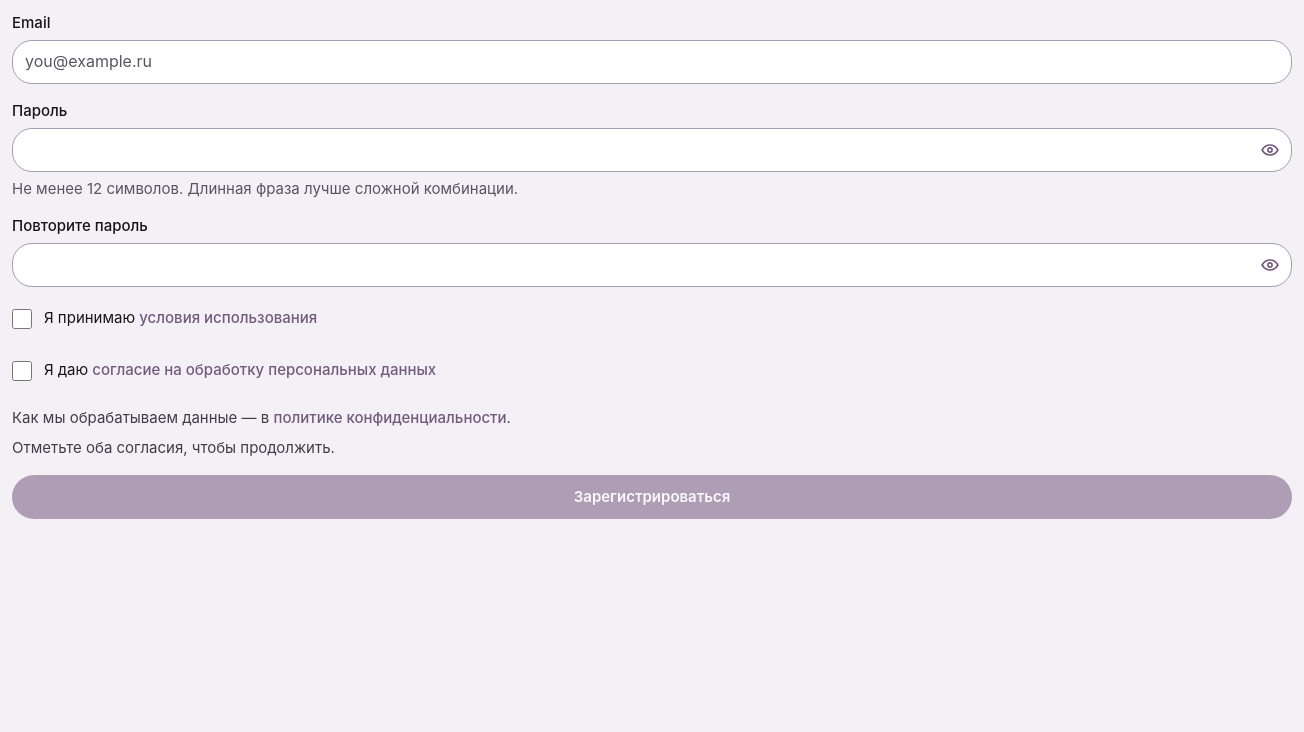
Test case: RegisterForm › words an empty form in Russian, never the schema’s English
The image size is (1304, 732).
Click the checkbox labelled "Я принимаю условия использования" at (22, 319), box x1=12 y1=309 x2=32 y2=329
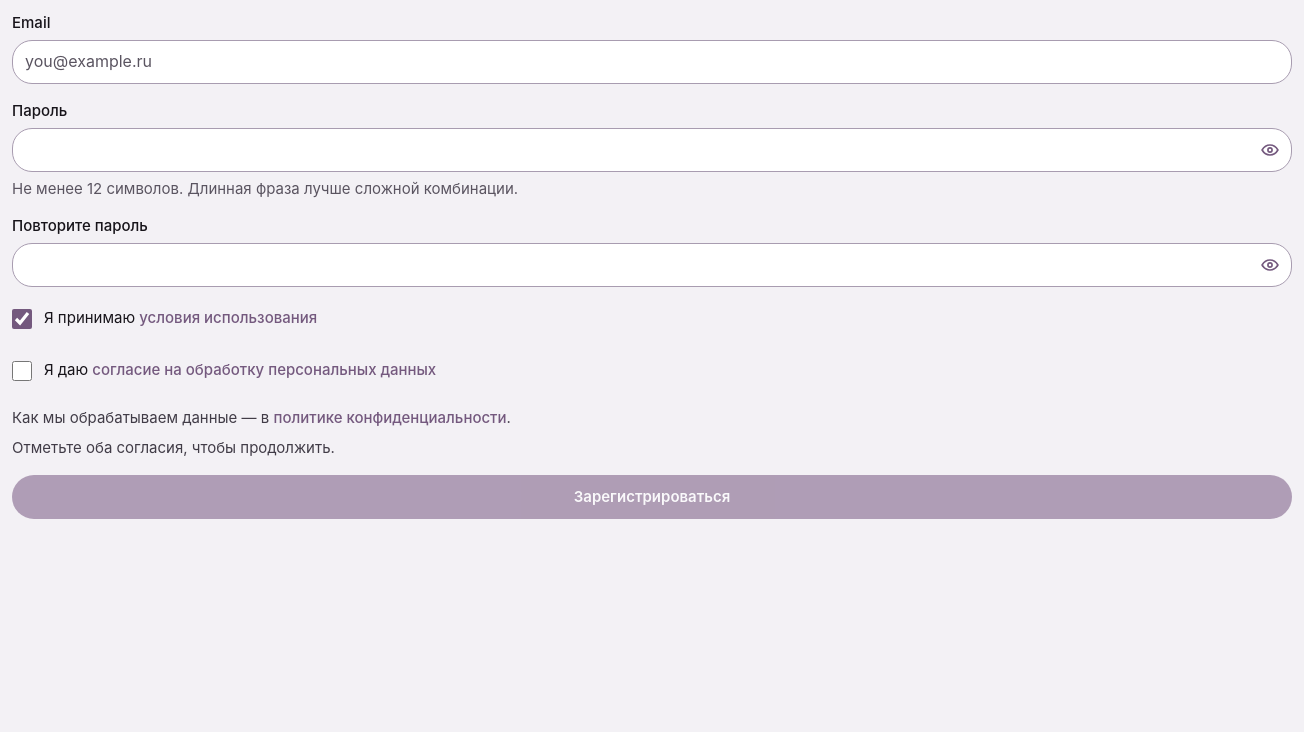
Click the checkbox labelled "Я даю согласие на обработку персональных данных" at (22, 371), box x1=12 y1=361 x2=32 y2=381
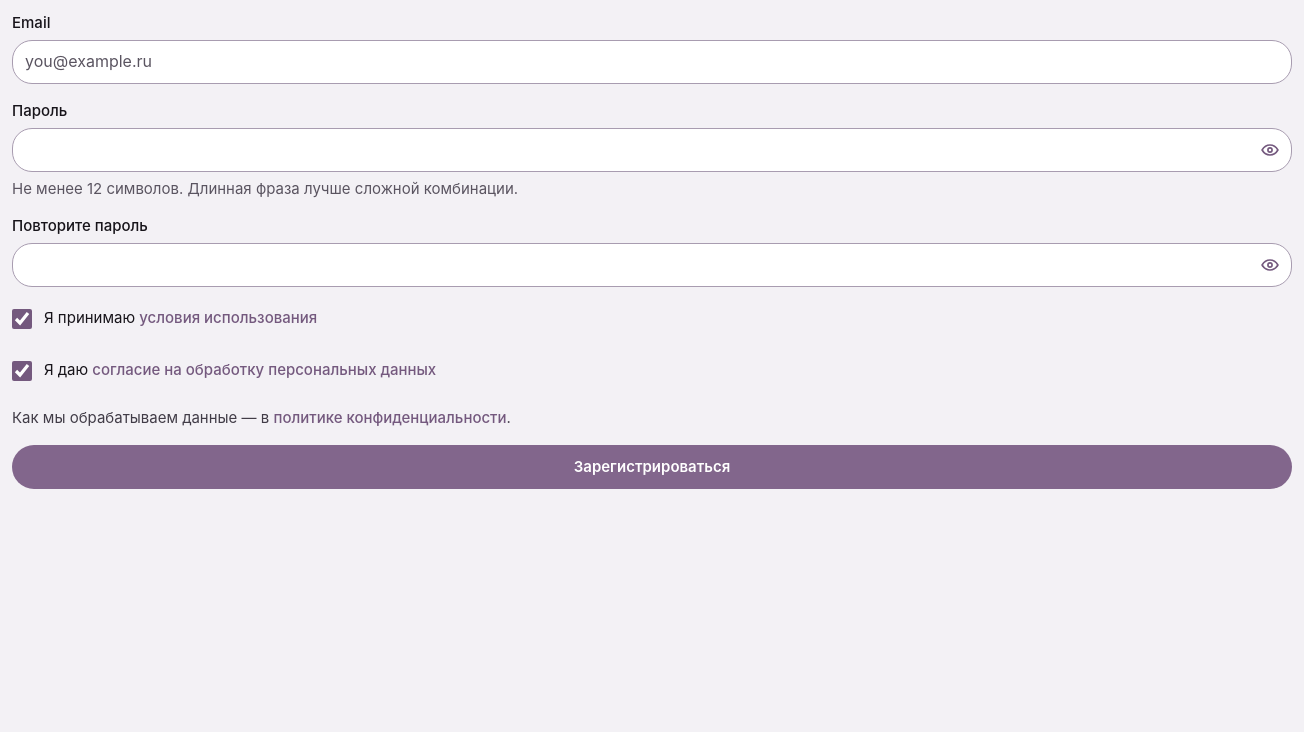
Click the button "Зарегистрироваться" at (652, 467), box x1=12 y1=445 x2=1292 y2=489
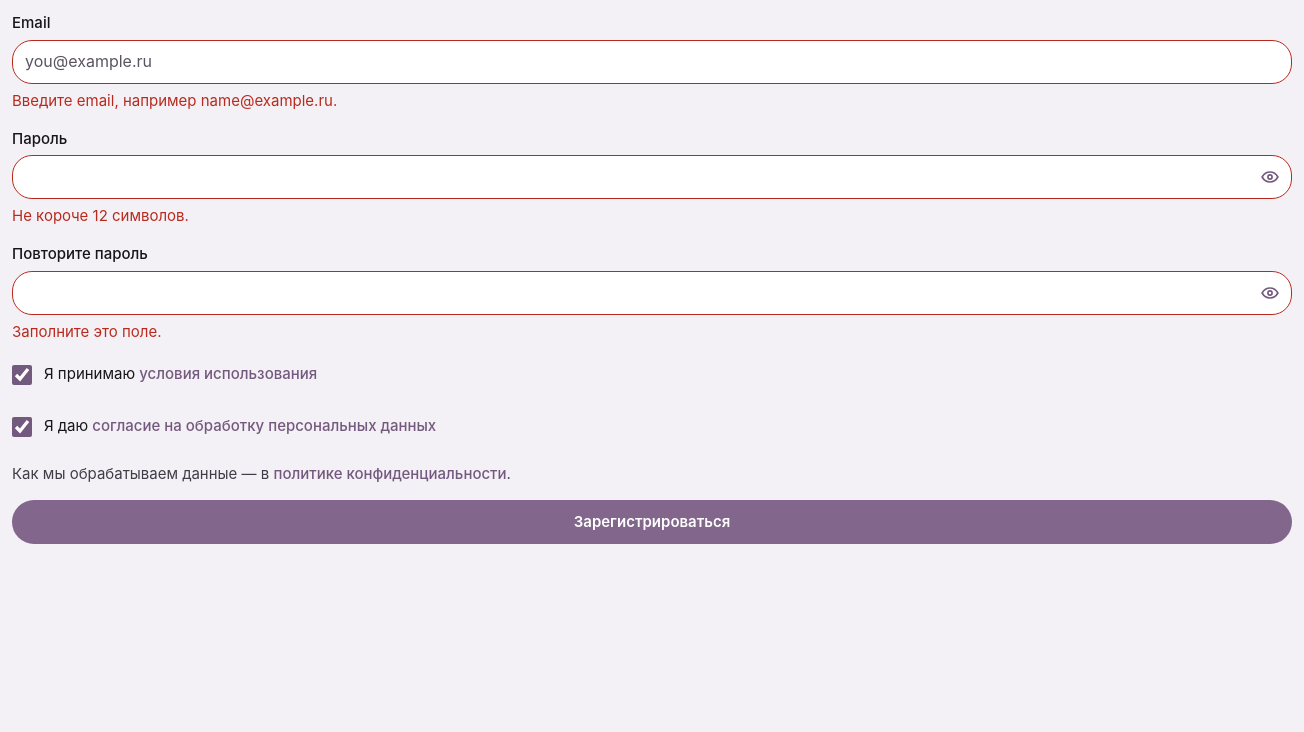
Expected: the text "Введите email, например name@example.ru." is shown, x1=12 y1=91 x2=337 y2=110
Expected: the text "Не короче 12 символов." is shown, x1=12 y1=206 x2=189 y2=225
